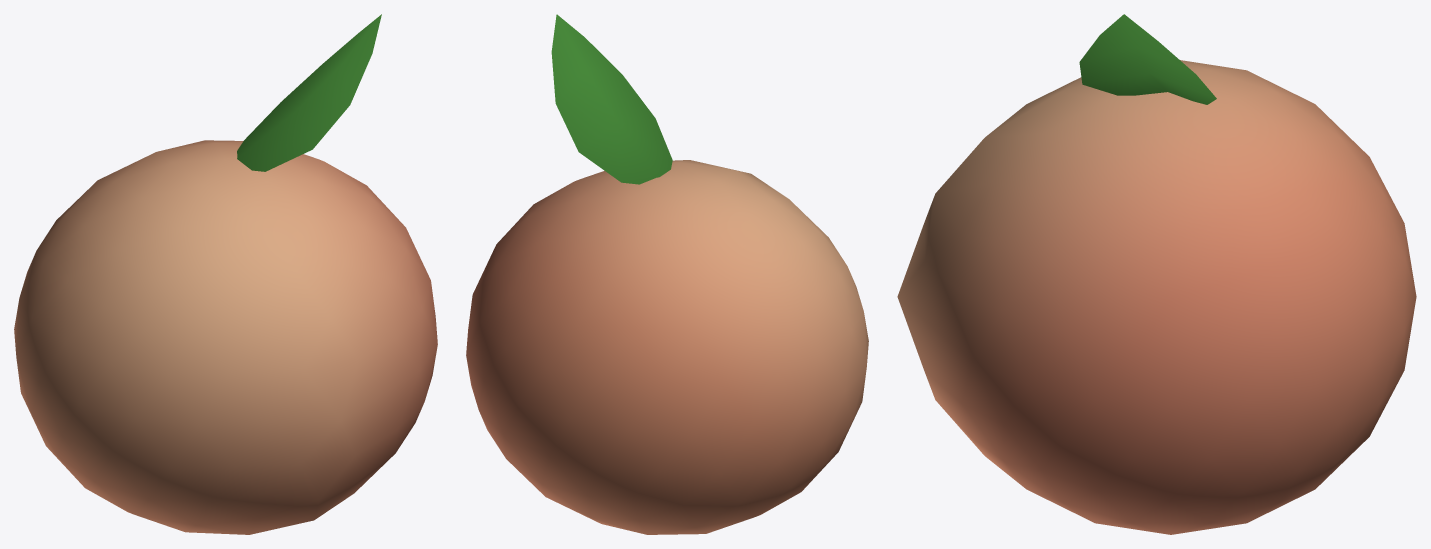
Rendered from fruit_peach.glb.
The picture shows the model from 3 angles, left to right: view 1: azimuth 30°, elevation 25°; view 2: azimuth 150°, elevation 25°; view 3: azimuth 270°, elevation 25°; orthographic projection. The views are drawn at different scales.
Parts seen in each view (by area): view 1: fruit_peach; view 2: fruit_peach; view 3: fruit_peach.
Part boxes in pixels (x1=…): fruit_peach: x1=14, y1=14, x2=437, y2=534; fruit_peach: x1=466, y1=14, x2=868, y2=534; fruit_peach: x1=897, y1=14, x2=1416, y2=534.
Size of the model in its own units: 0.22 by 0.2708 by 0.222.
